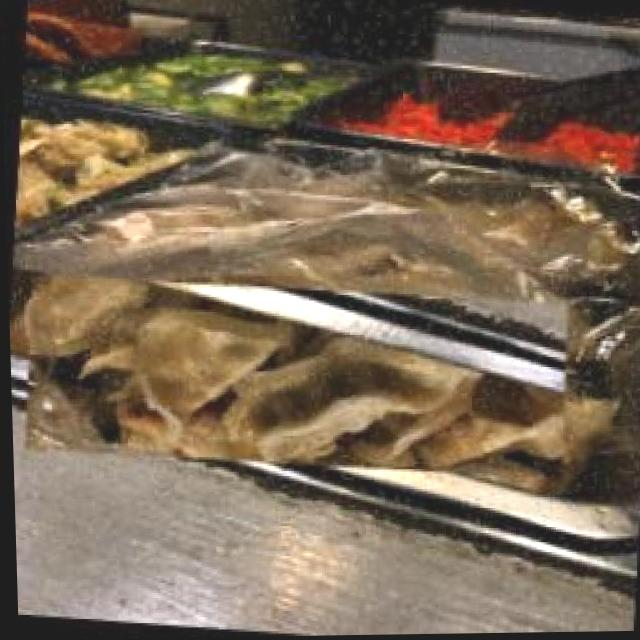fried_dumplings: (14, 256, 575, 496)
